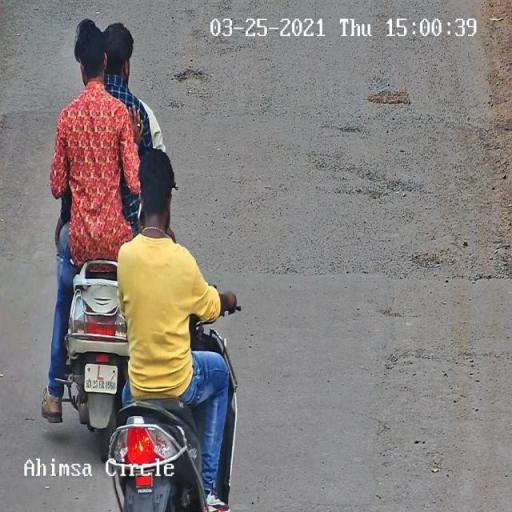tripple riding: (49, 18, 171, 235)
